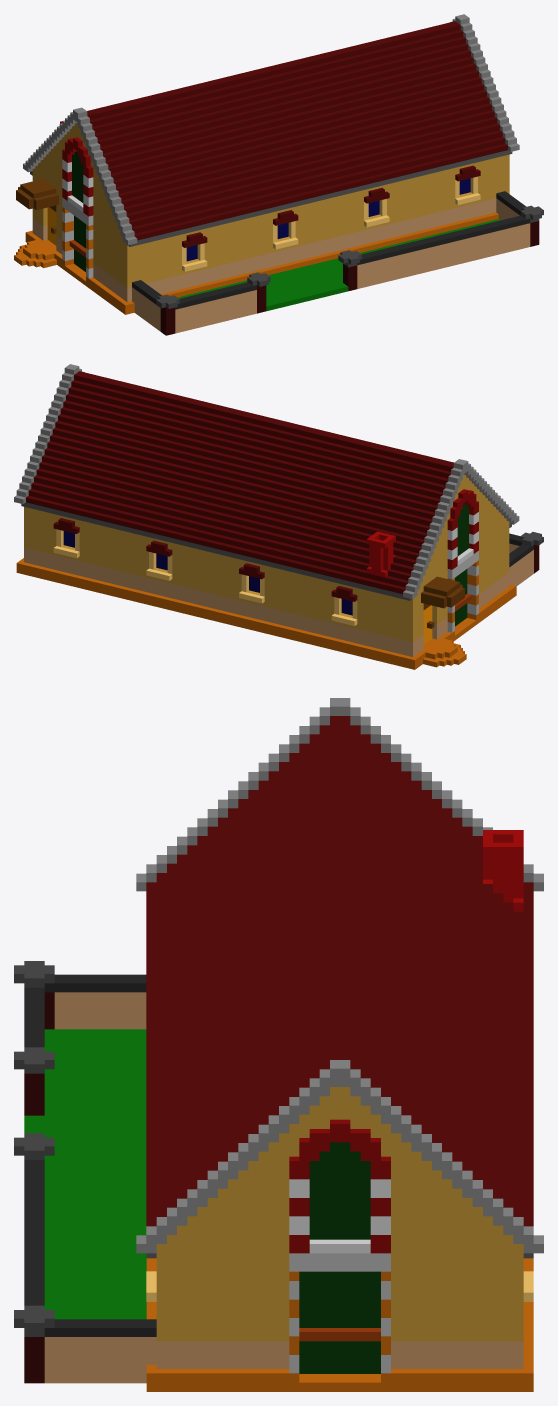
Rendered from VoxelHouse_02.obj.
3 views of the same model, one above another, from view 1: azimuth 30°, elevation 25°; view 2: azimuth 150°, elevation 25°; view 3: azimuth 270°, elevation 25° (orthographic). The views are drawn at different scales.
Bounding box in the file's own units: 18.4 × 7 × 10.4.
Materials: 1 (1 with a texture image).
